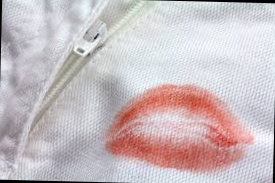lipstick: (103, 83, 247, 170)
